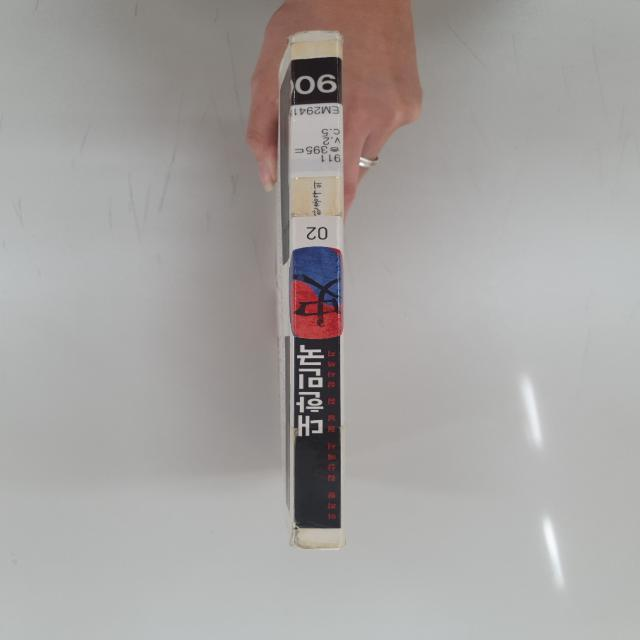Ripped: (286, 521, 301, 549)
Wornout: (284, 28, 344, 40), (294, 543, 348, 552)
